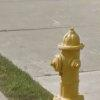Hydrant: (47, 21, 81, 98)
